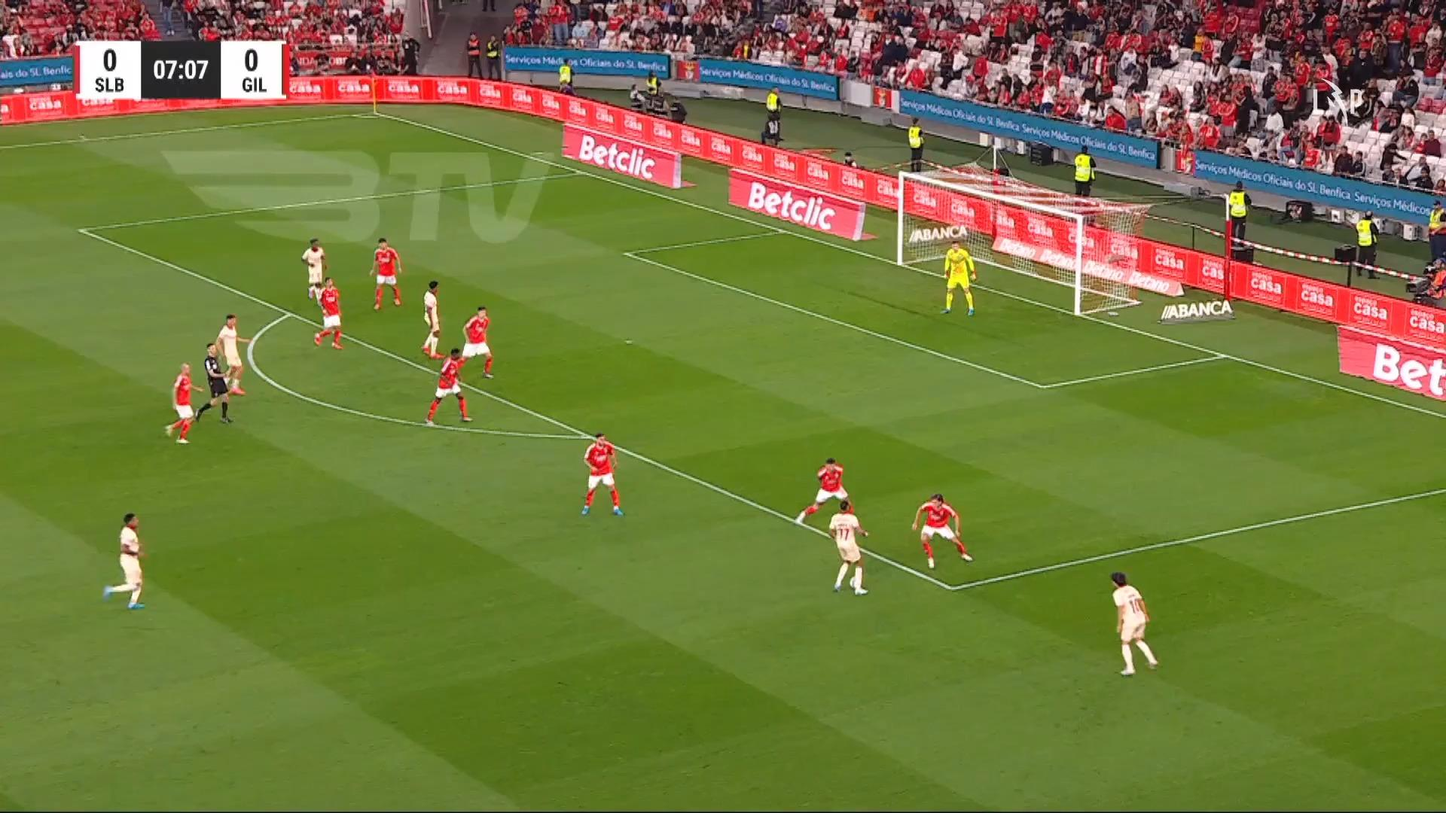ball: (850, 576, 860, 589)
goalkeeper: (941, 239, 977, 316)
player: (1109, 571, 1158, 676), (911, 492, 973, 569), (102, 512, 146, 609), (827, 499, 870, 595), (795, 456, 851, 524), (424, 347, 472, 426), (580, 431, 624, 516), (163, 361, 203, 443), (215, 313, 251, 395), (459, 305, 494, 379), (368, 237, 402, 310), (311, 277, 343, 349), (420, 279, 444, 359), (300, 237, 327, 300)
referee: (194, 341, 235, 424)
